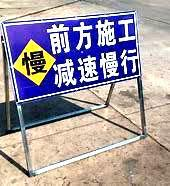sign: (6, 16, 145, 100)
